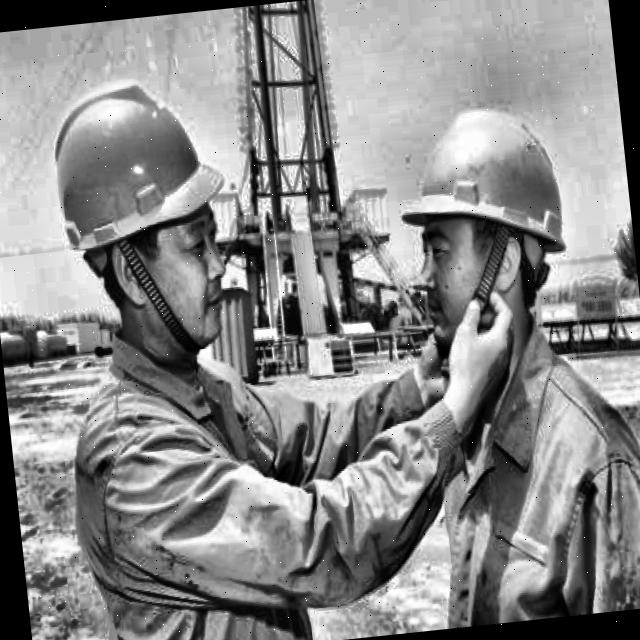helmet: (23, 46, 272, 386), (362, 87, 592, 370)
